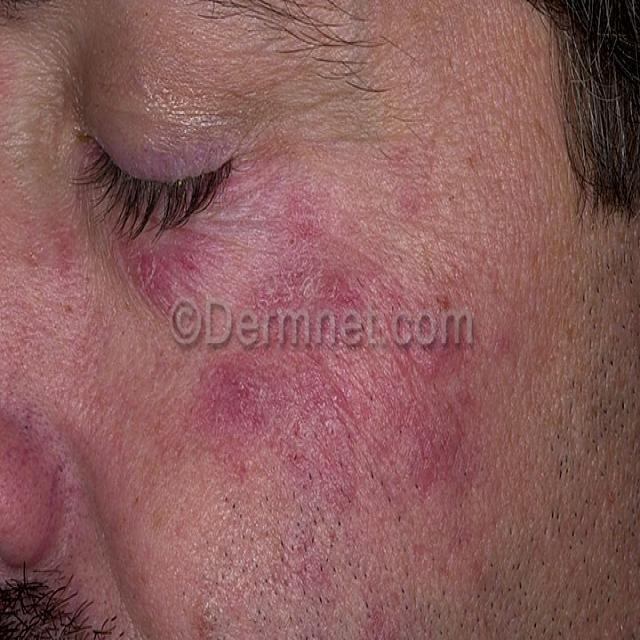Rosacea: (122, 212, 473, 516)
